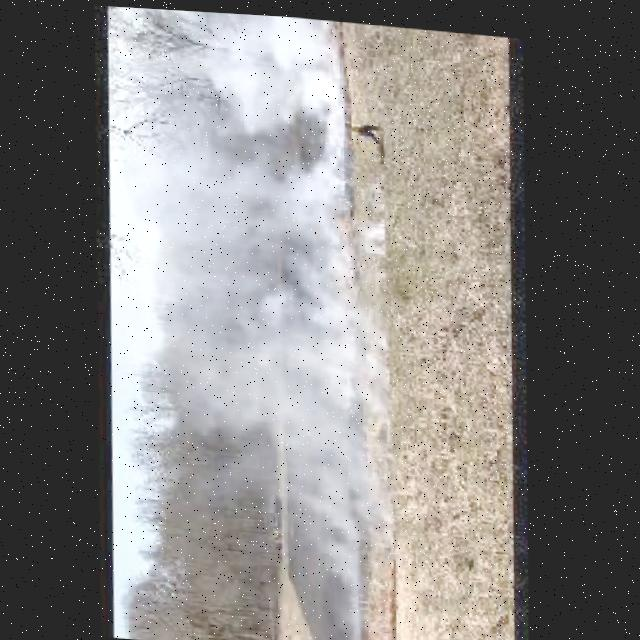Fire: (87, 4, 406, 603), (341, 628, 389, 640)
